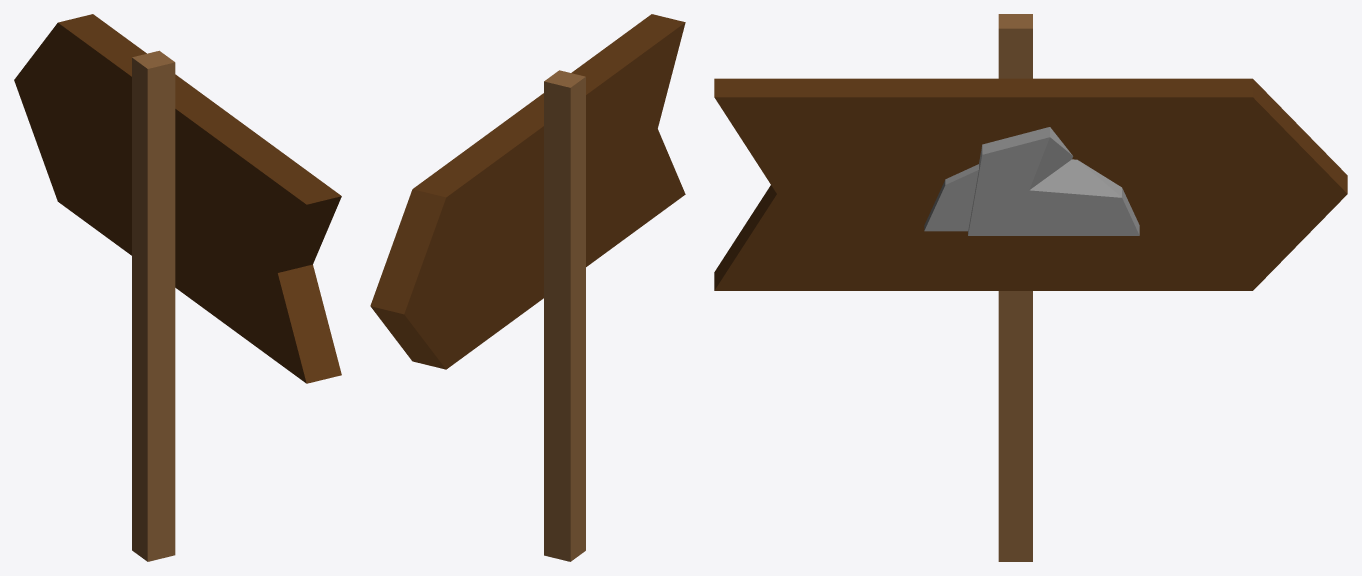
Rendered from PanneauCailloux_PH.fbx.
3 renders of one model, left to right at view 1: azimuth 30°, elevation 25°; view 2: azimuth 150°, elevation 25°; view 3: azimuth 270°, elevation 25°, orthographic. The views are drawn at different scales.
Parts seen in each view (by area): view 1: PanneauCaillou; view 2: PanneauCaillou; view 3: PanneauCaillou.
Part boxes in pixels (left/top/right/bottom): PanneauCaillou: left=14, top=14, right=341, bottom=561; PanneauCaillou: left=370, top=14, right=685, bottom=561; PanneauCaillou: left=714, top=14, right=1347, bottom=561.
Bounding box in the file's own units: 32.5 × 186 × 200.
